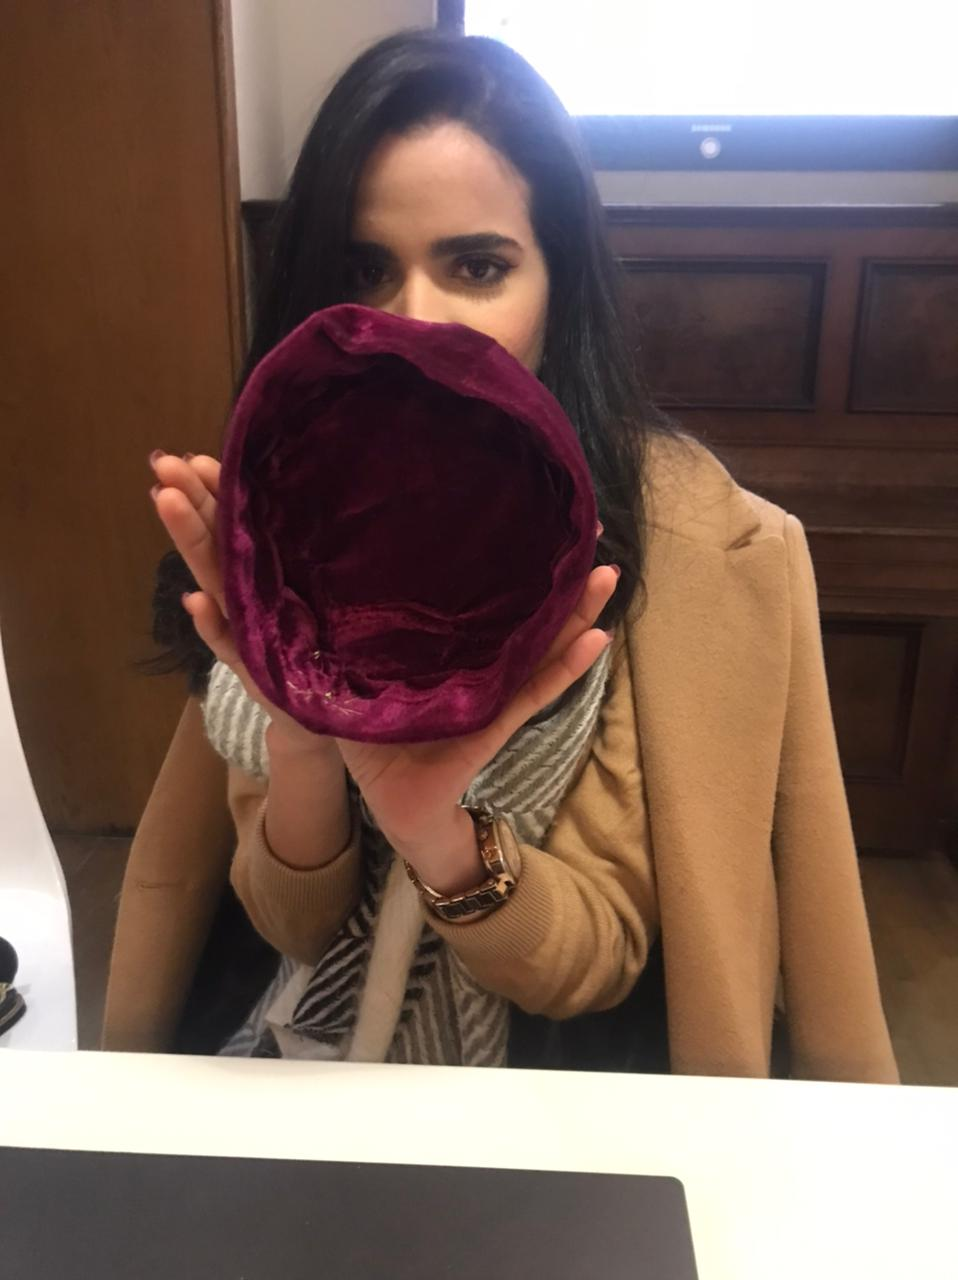chachia: (201, 287, 611, 767)
